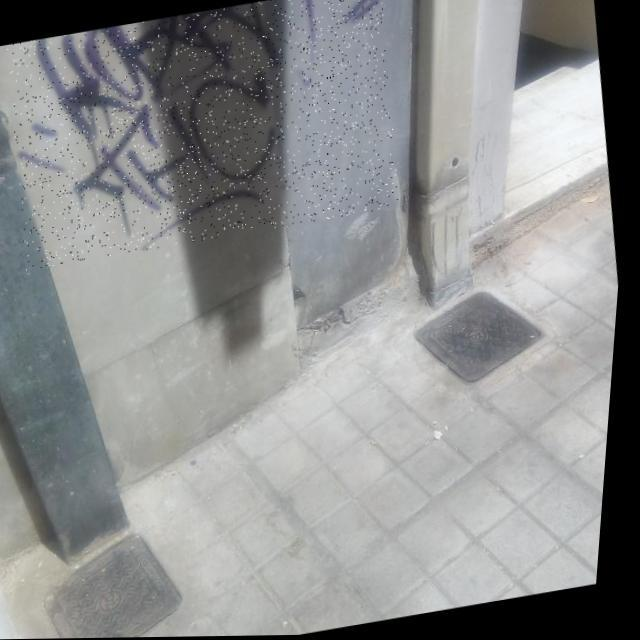-: (0, 0, 415, 271)
